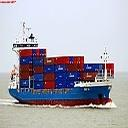Ships: (11, 26, 115, 108)
